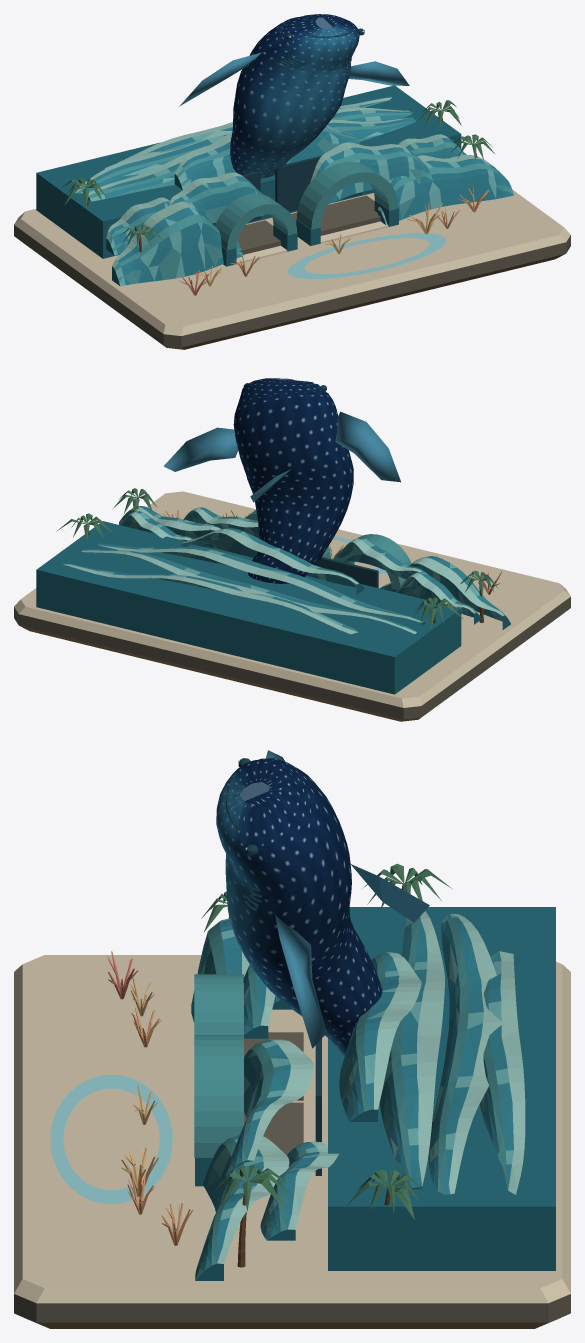
Rendered from chimelong-ocean-kingdom.glb.
3 renders of one model, top to bottom at view 1: azimuth 30°, elevation 25°; view 2: azimuth 150°, elevation 25°; view 3: azimuth 270°, elevation 25°, orthographic. The views are drawn at different scales.
Visible parts, largest first — view 1: 珠海长隆海洋王国; view 2: 珠海长隆海洋王国; view 3: 珠海长隆海洋王国.
Boxes of the visible parts, x1,y1,x2,y2 form: 珠海长隆海洋王国: [14, 14, 570, 349]; 珠海长隆海洋王国: [14, 378, 570, 721]; 珠海长隆海洋王国: [14, 750, 570, 1328].
Bounding box in the file's own units: 6.15 × 3.34 × 4.25.
21 materials, 4 textured.
